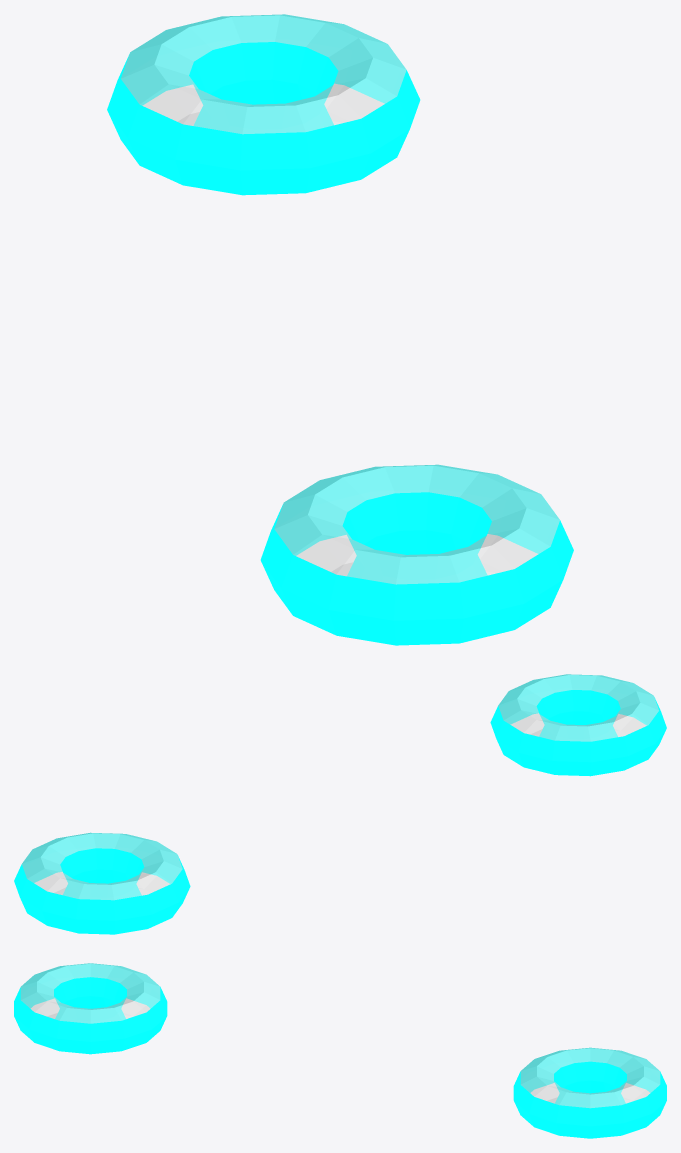
Rendered from (5)H GAirJump.fbx.
The picture shows the model from 3 angles, top to bottom: view 1: azimuth 30°, elevation 25°; view 2: azimuth 150°, elevation 25°; view 3: azimuth 270°, elevation 25°; orthographic projection. The views are drawn at different scales.
Visible parts, largest first — view 1: AirJump.002, AirJump.003; view 2: AirJump.002, AirJump.003; view 3: AirJump.002, AirJump.003.
Part boxes in pixels (<box>): AirJump.002: <box>260,464,573,645</box>; AirJump.003: <box>107,14,420,195</box>; AirJump.002: <box>490,674,666,776</box>; AirJump.003: <box>14,832,190,934</box>; AirJump.002: <box>14,963,167,1054</box>; AirJump.003: <box>513,1047,666,1138</box>.
Size of the model in its own units: 357 by 48.2 by 653.
